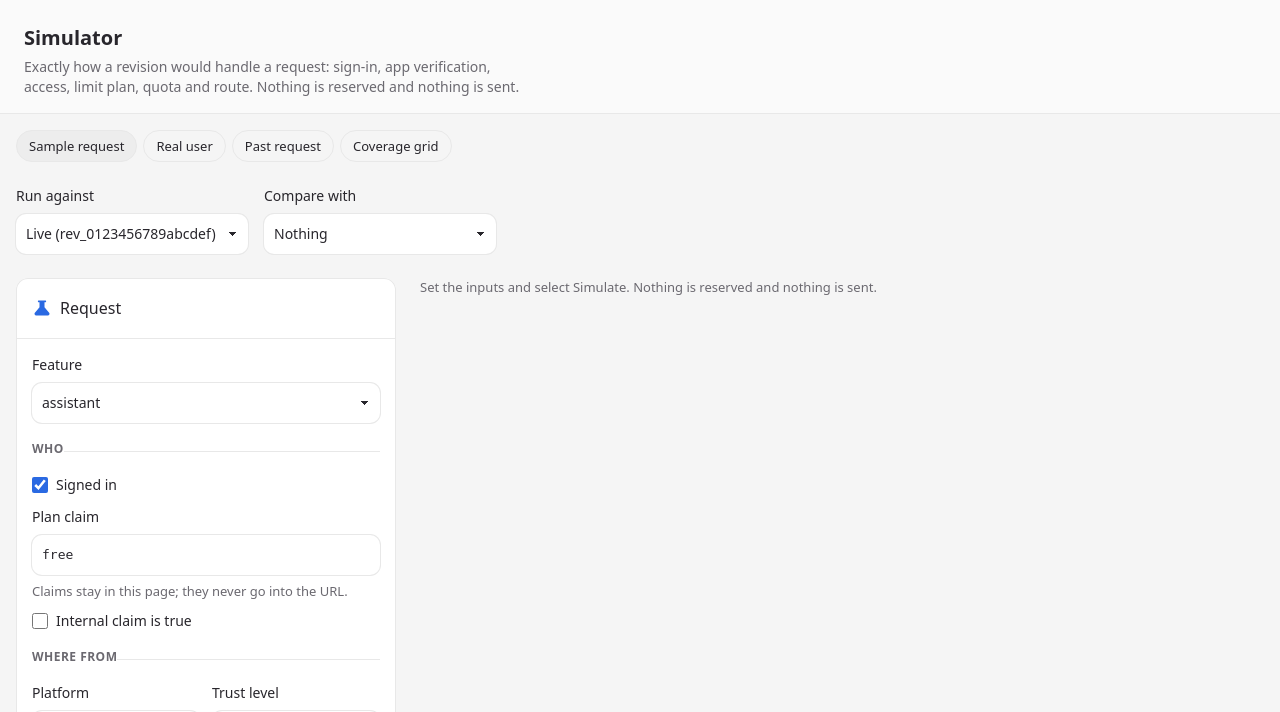
Test: Simulator › runs a sample request, shows the decision trace, and keeps claims out of the URL
Replace the text in the field labelled "Plan claim" with "premium" at (206, 555), box [42,545,370,565]
(page scrolled)
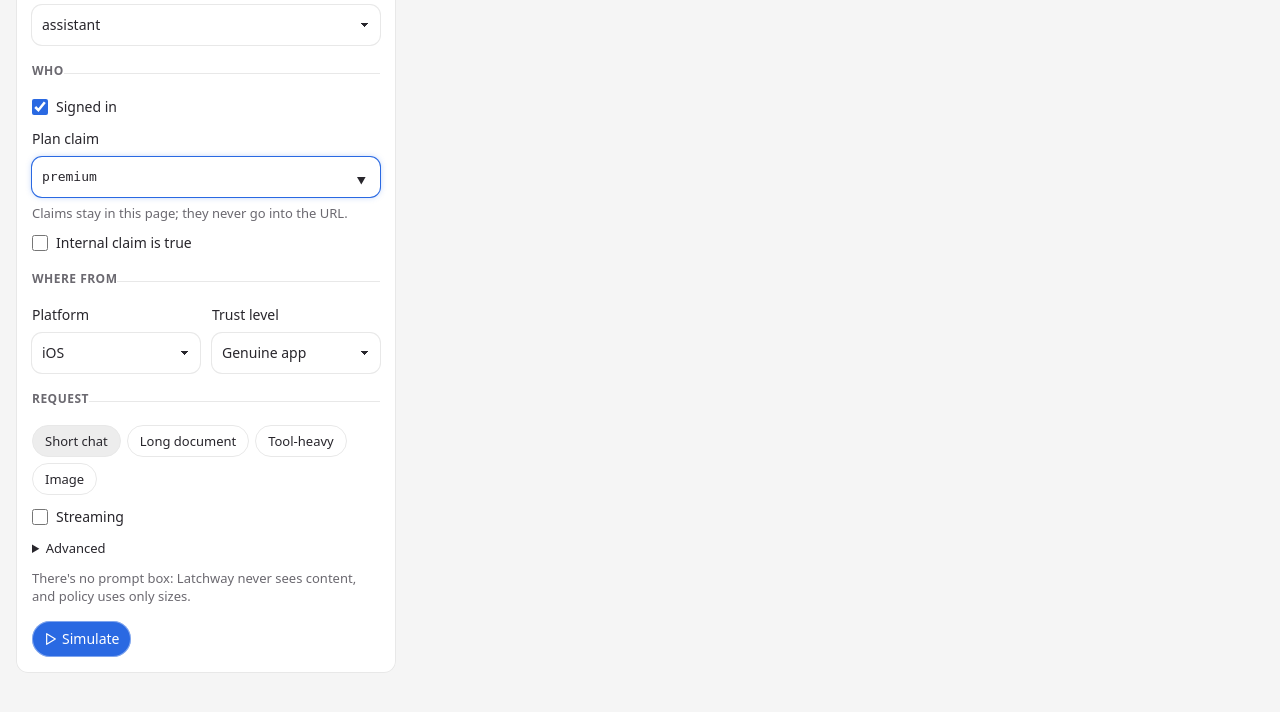
Select "Web" in the dropdown labelled "Platform" at (116, 353), box [32,333,200,373]
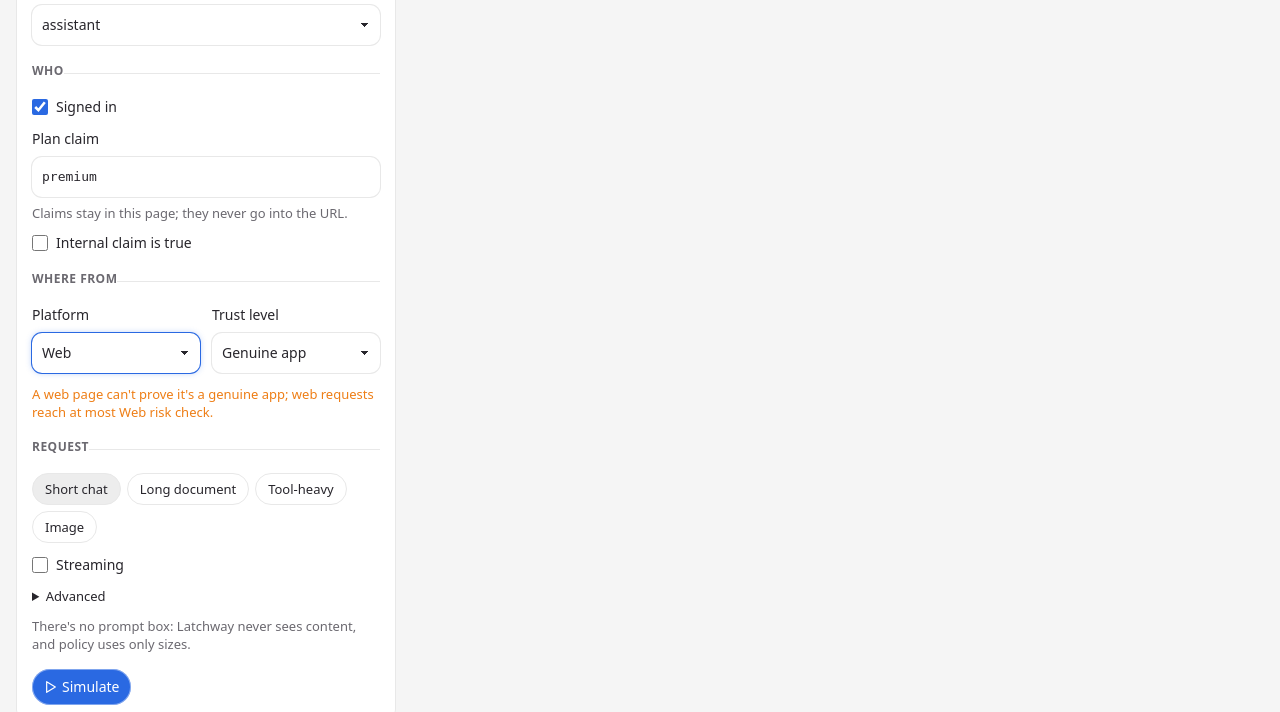
Select "Genuine app" in the dropdown labelled "Trust level" at (296, 353), box [212,333,380,373]
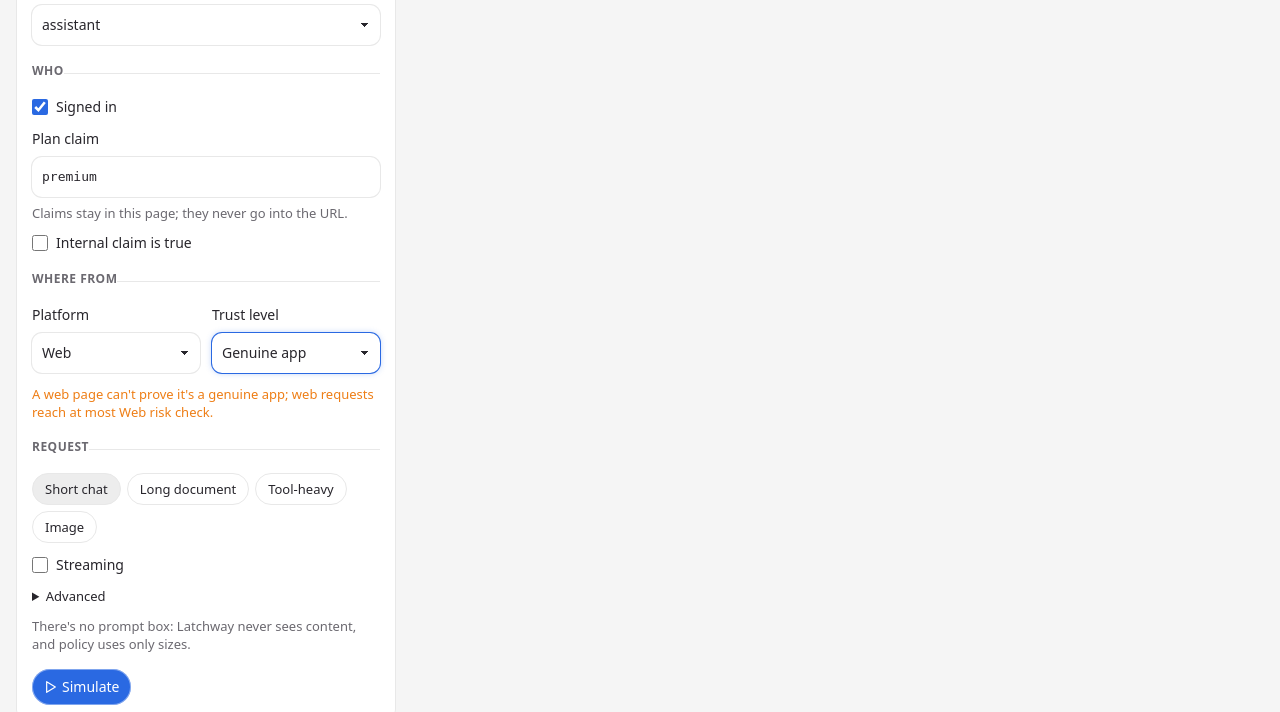
expect the text "A web page can't prove it's a genuine app" is shown: met, box [32,385,374,421]
Click the button "Simulate" at (82, 687), box [32,669,132,705]
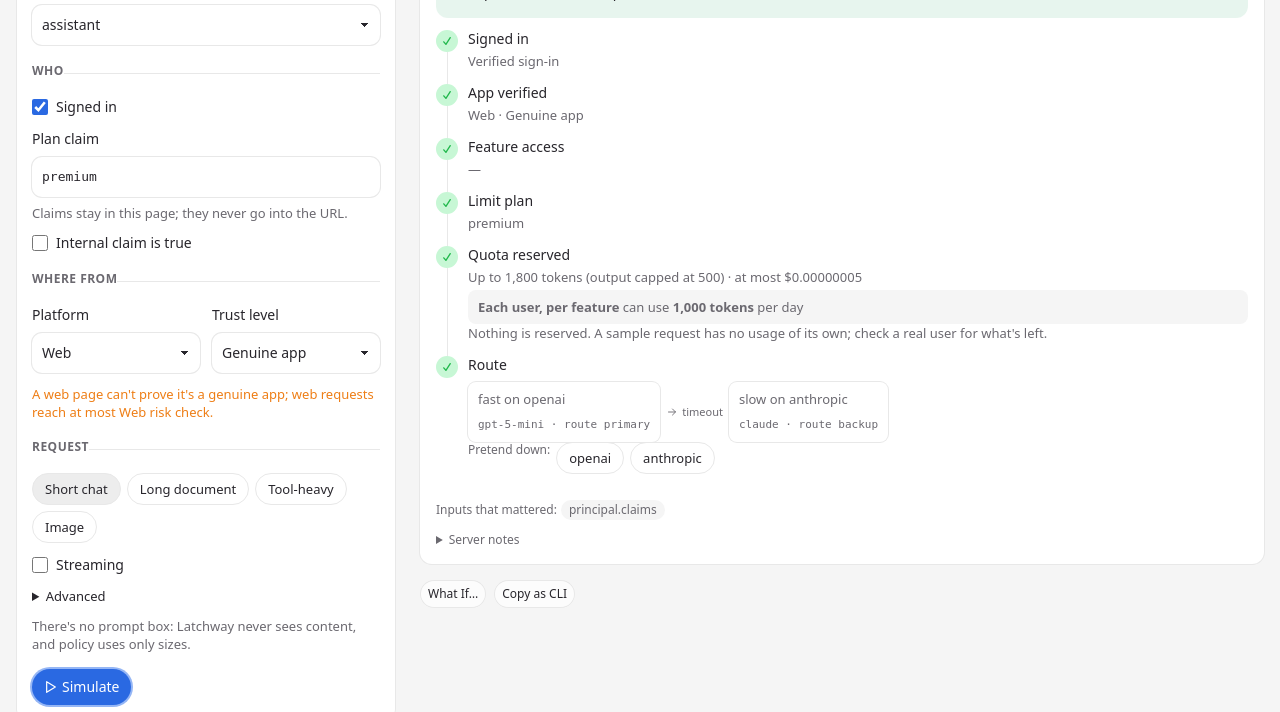
Click the button "openai" at (590, 458), box [556,442,624,474]
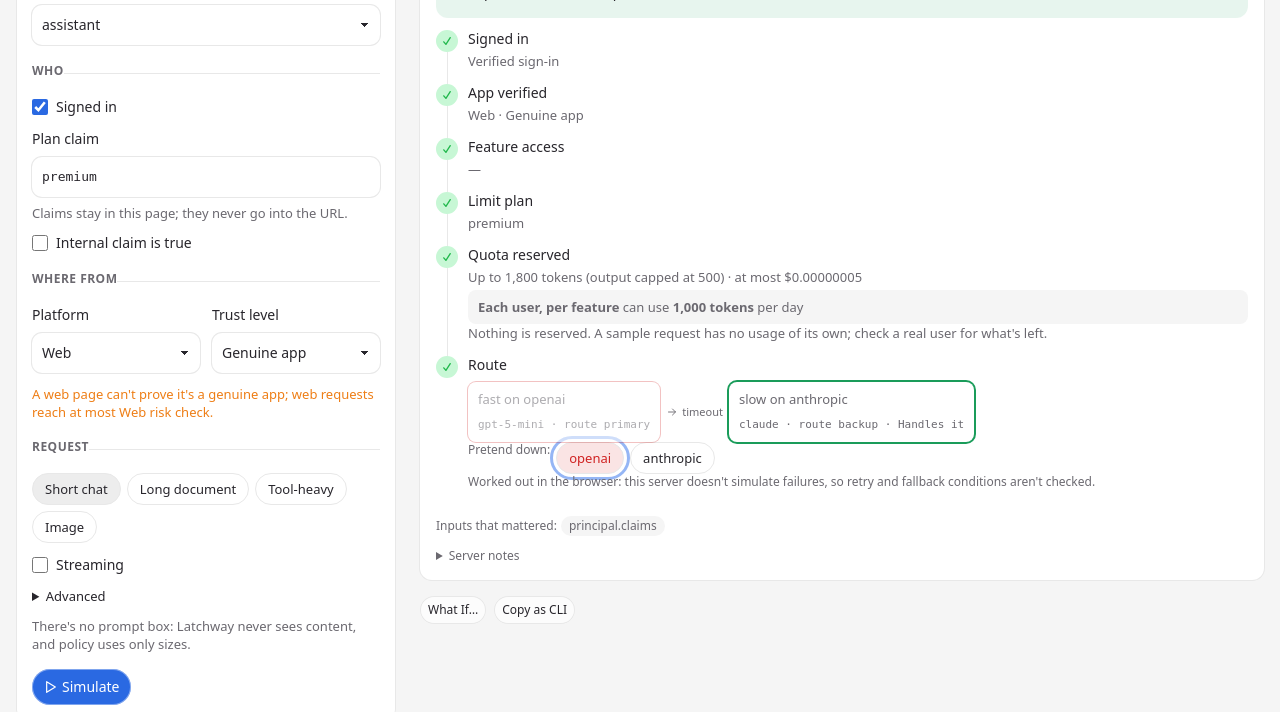
expect the text "claude · route backup · Handles it" is shown: met, box [739,416,964,434]
